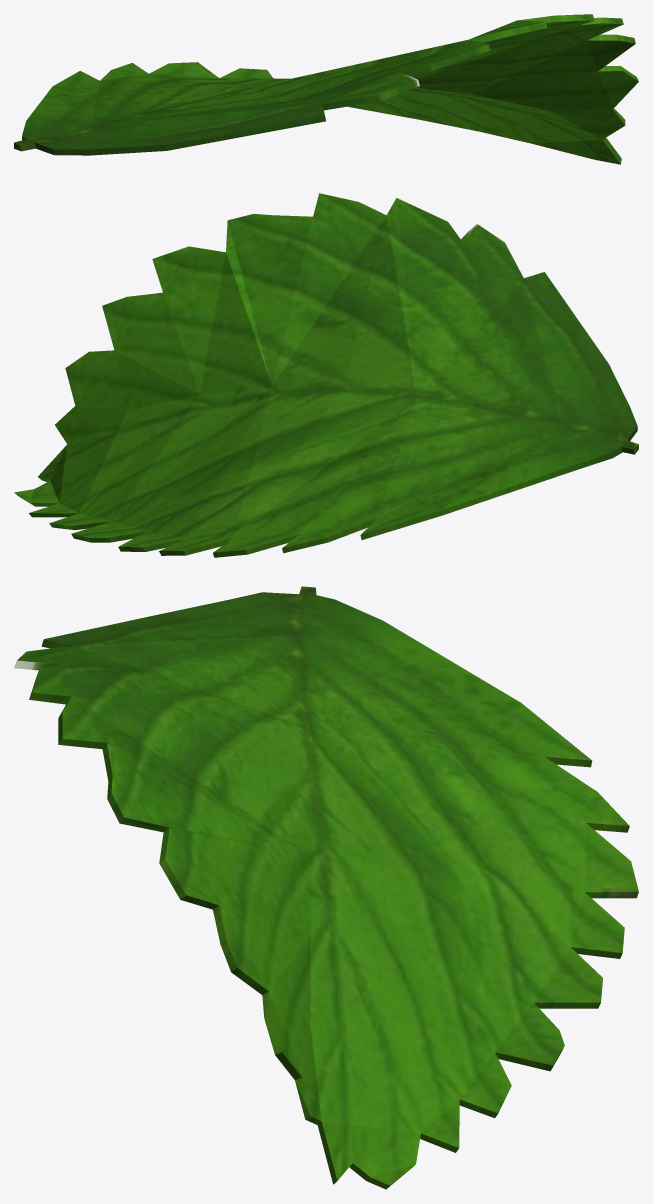
File: leaf5_g2.dae
3 views of the same model, one above another, from view 1: azimuth 30°, elevation 25°; view 2: azimuth 150°, elevation 25°; view 3: azimuth 270°, elevation 25° (orthographic). The views are drawn at different scales.
Visible parts, largest first — view 1: Plane; view 2: Plane; view 3: Plane.
Part boxes in pixels (bbox=[...]): Plane: bbox=[14, 14, 638, 164]; Plane: bbox=[14, 193, 638, 557]; Plane: bbox=[14, 586, 638, 1189].
Size of the model in its own units: 0.1375 by 0.0957 by 0.0575.
1 material, 1 textured.
